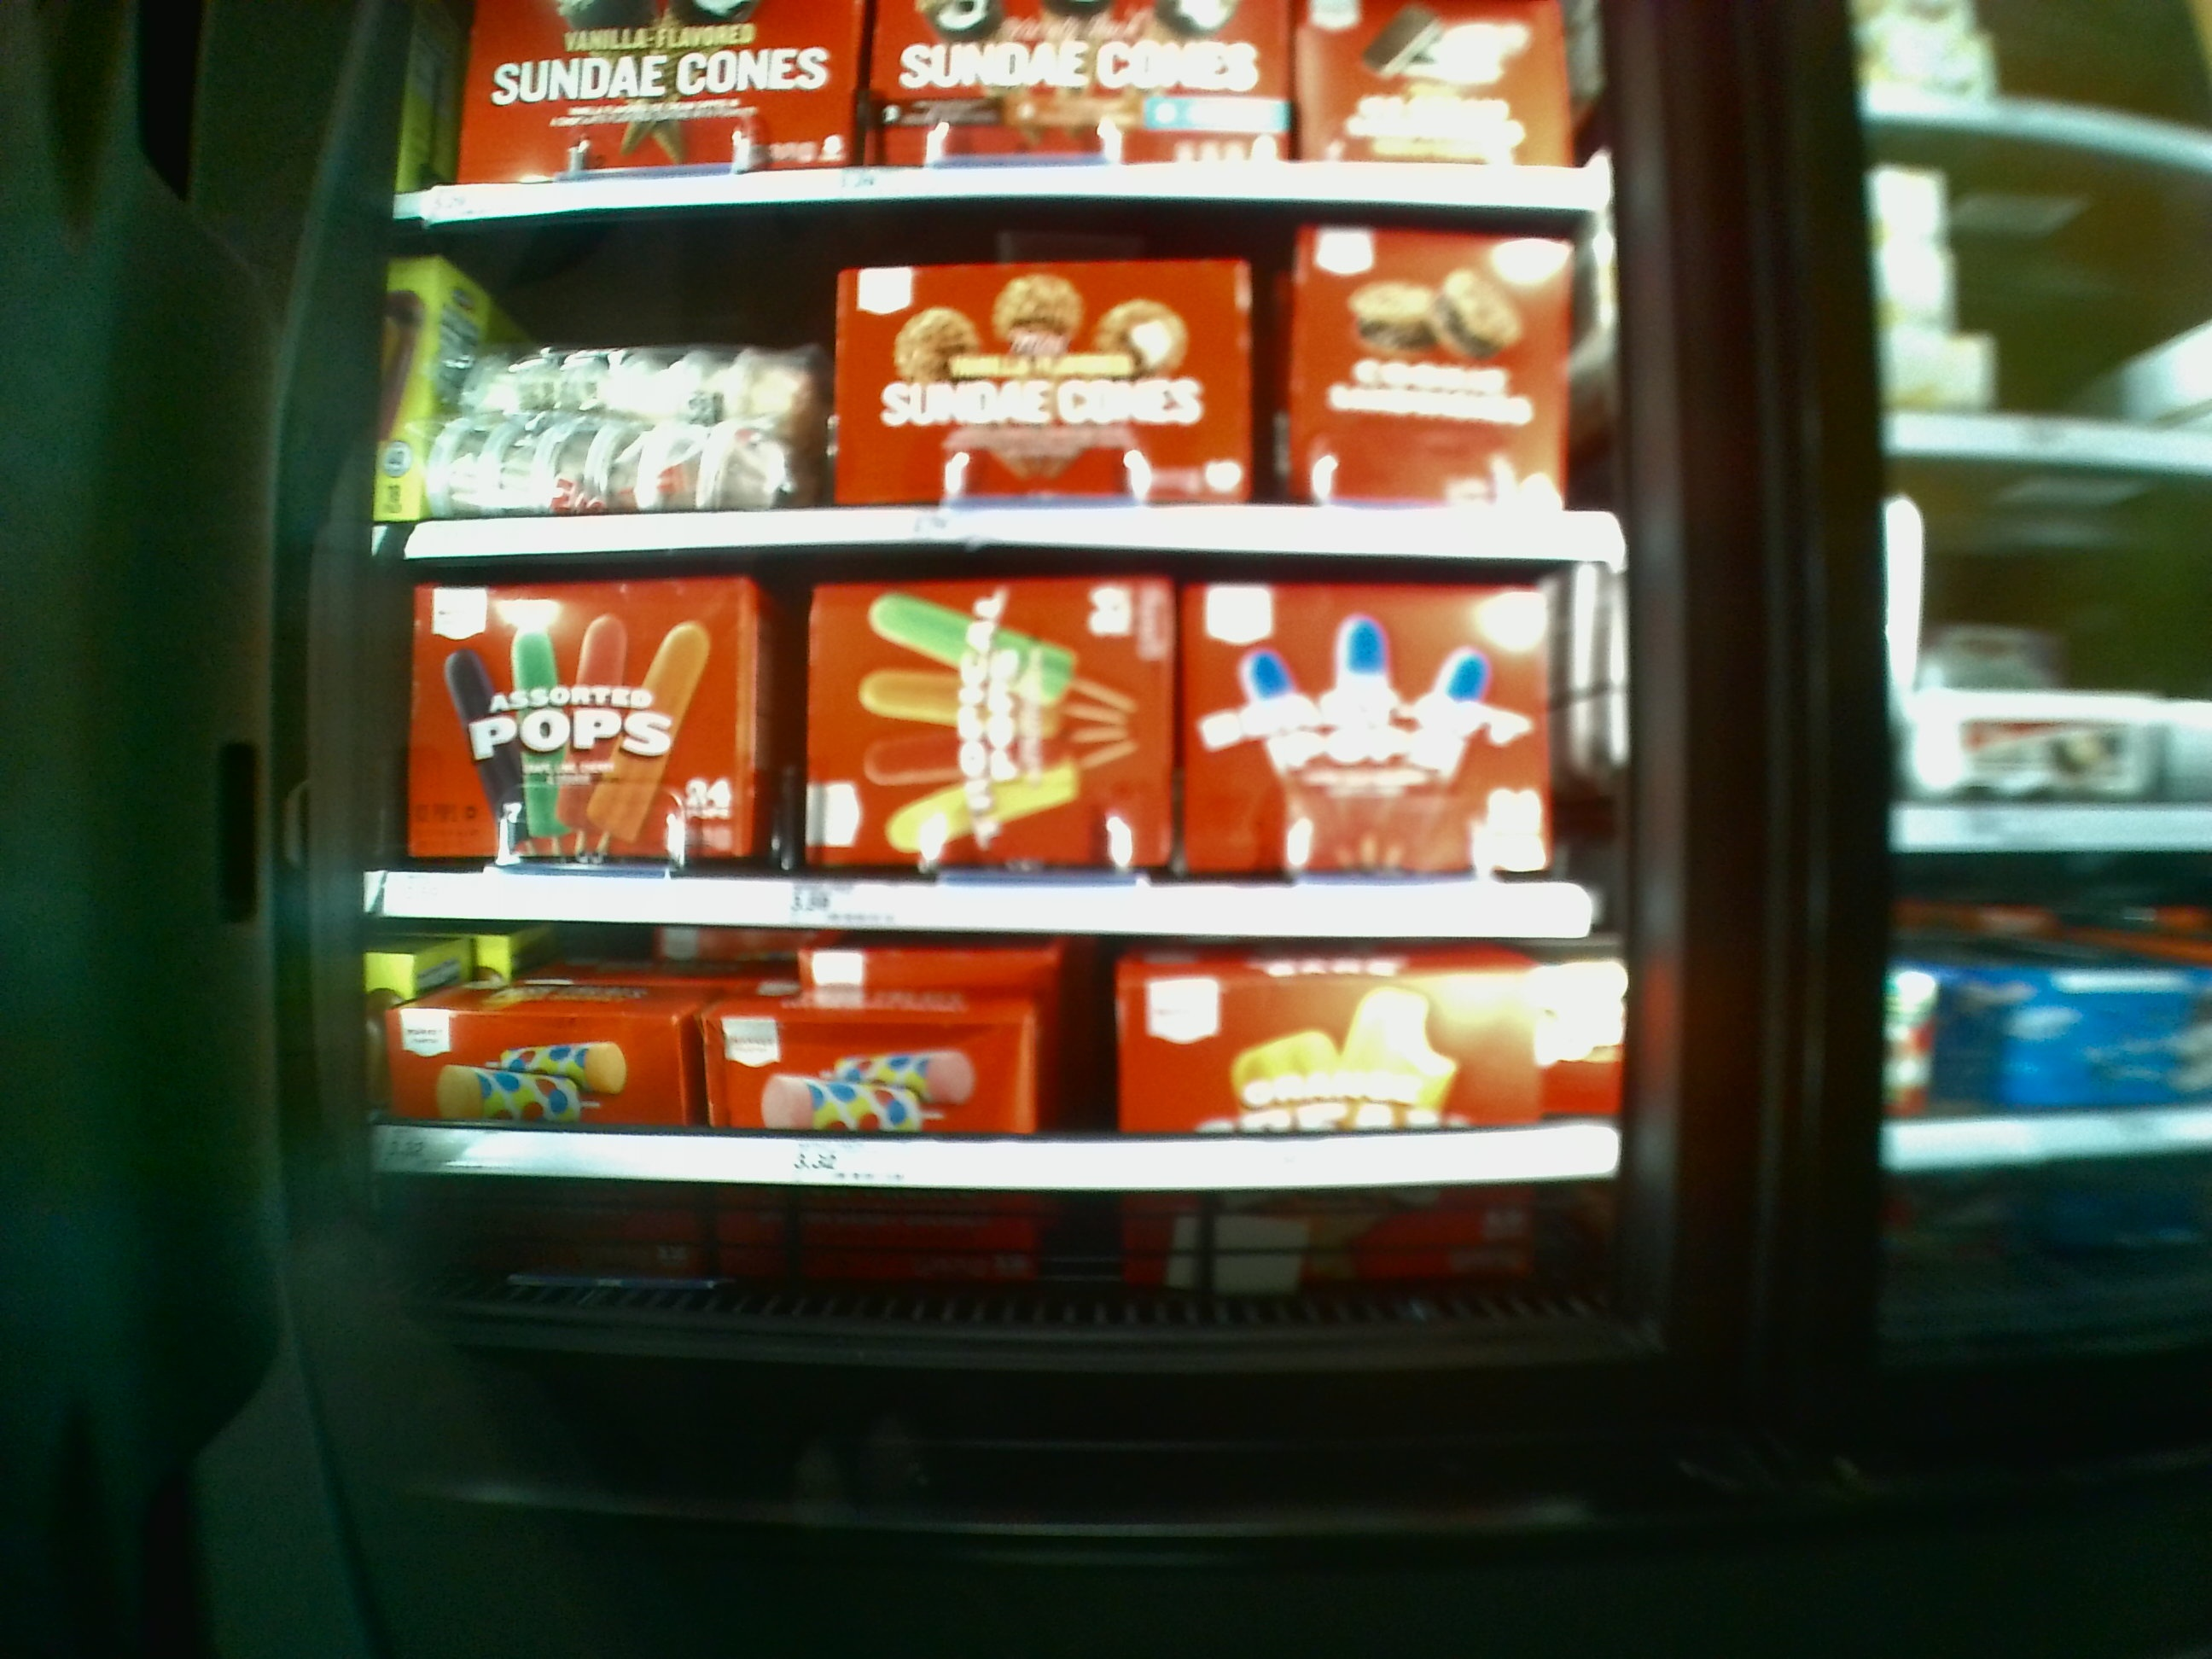shelf: (347, 922, 1616, 1340), (364, 552, 1602, 946), (399, 211, 1609, 566)
